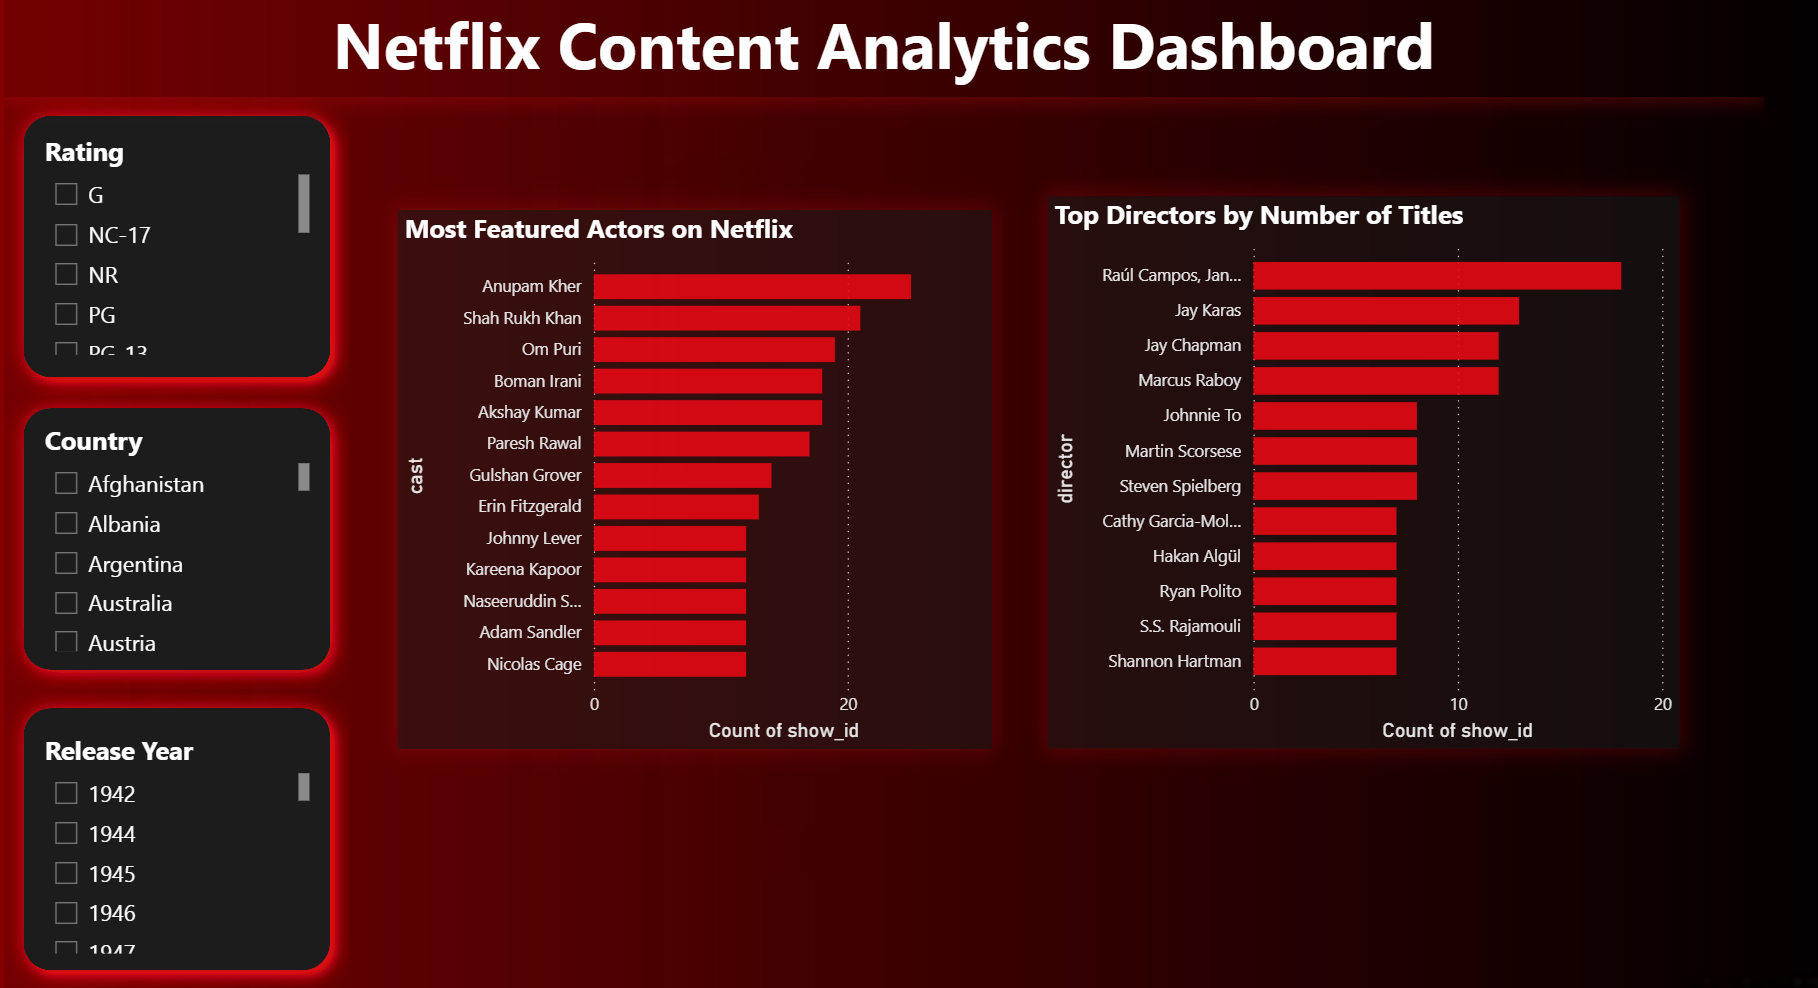

This screenshot's page, from the dashboard's own definition file:
{"tool":"powerbi","page":{"name":"Duplicate of Duplicate of Duplicate of Duplicate of Duplicate of Page 2","canvas":[1280,720],"ordinal":3},"visuals":[{"type":"shape","box":[0,0,1280,720.3],"z":0},{"type":"shape","box":[0,501.3,251.3,218.9],"z":1000},{"type":"shape","box":[0,282.9,251.4,218.6],"z":2000},{"type":"shape","box":[0,70,251.4,218.6],"z":3000},{"type":"slicer","title":"Release Year","fields":{"Values":["netflix_titles_nov_2019.release_year"]},"box":[24.3,532.9,202.9,165.7],"z":4000},{"type":"slicer","title":"Country","fields":{"Values":["netflix_titles_nov_2019.country"]},"box":[24.3,307.1,202.9,171.4],"z":5000},{"type":"slicer","title":"Rating","fields":{"Values":["netflix_titles_nov_2019.rating"]},"box":[24.3,97.1,202.9,165.7],"z":6000},{"type":"textbox","title":"Netflix Content Analytics Dashboard","box":[0,0,1280,70],"z":10000},{"type":"clusteredBarChart","title":"Most Featured Actors on Netflix","fields":{"Category":["netflix_titles_nov_2019.cast"],"Y":["Count(netflix_titles_nov_2019.show_id)"]},"box":[286.1,153,431.7,391.8],"z":10001},{"type":"clusteredBarChart","title":"Top Directors by Number of Titles","fields":{"Y":["Count(netflix_titles_nov_2019.show_id)"],"Category":["netflix_titles_nov_2019.director"]},"box":[758.8,143.1,459,401.8],"z":10002}]}

Visuals, with their boxes on the page's 1280x720 design canvas (x1, y1, x2, y2). These are canvas units, not pixel positions in the 1818x988 screenshot, which may show the page scaled, cropped or inside an application window:
shape: <box>0,0,1280,720</box>
shape: <box>0,501,251,720</box>
shape: <box>0,283,251,502</box>
shape: <box>0,70,251,289</box>
"Release Year" slicer: <box>24,533,227,699</box>
"Country" slicer: <box>24,307,227,478</box>
"Rating" slicer: <box>24,97,227,263</box>
"Netflix Content Analytics Dashboard" textbox: <box>0,0,1280,70</box>
"Most Featured Actors on Netflix" clusteredBarChart: <box>286,153,718,545</box>
"Top Directors by Number of Titles" clusteredBarChart: <box>759,143,1218,545</box>
